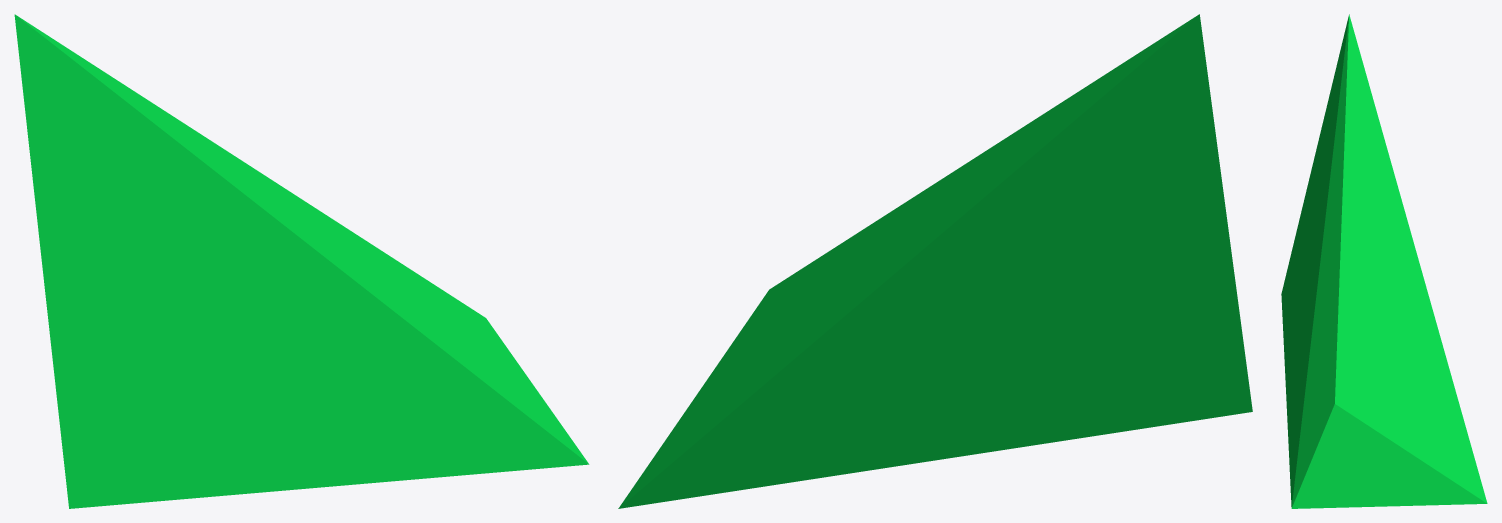
File: arm-L1_convex_piece_038.obj
The picture shows the model from 3 angles, left to right: view 1: azimuth 30°, elevation 25°; view 2: azimuth 150°, elevation 25°; view 3: azimuth 270°, elevation 25°; orthographic projection. The views are drawn at different scales.
Bounding box in the file's own units: 0.00936 × 0.00938 × 0.00513.
